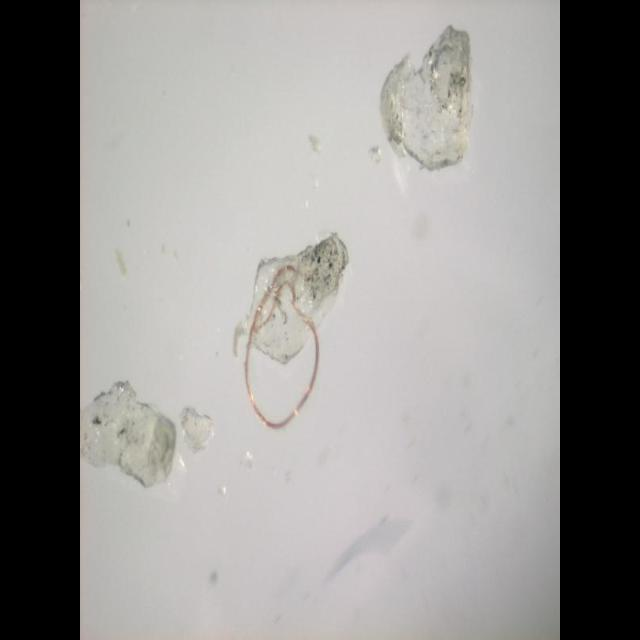Fibre: (243, 230, 349, 430)
